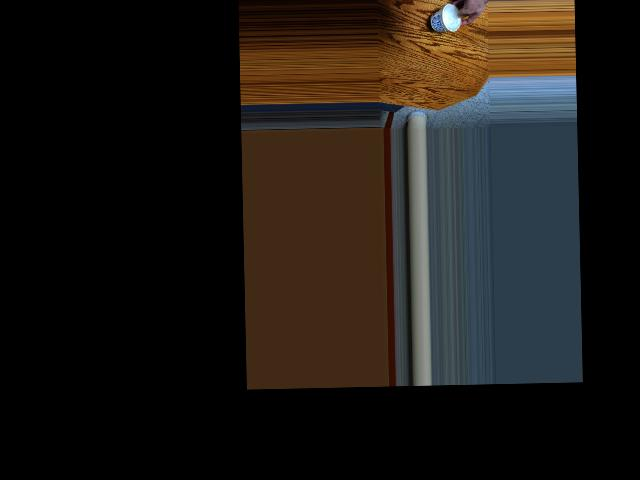cotage: (427, 9, 461, 32)
